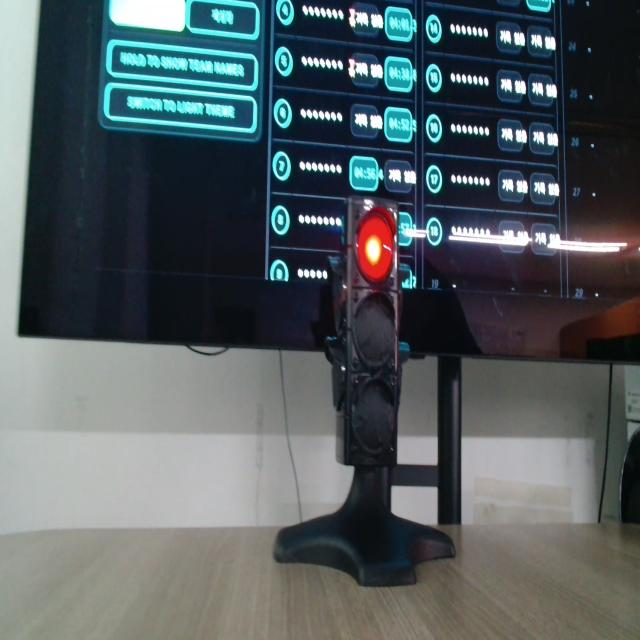red_light: (357, 210, 394, 282)
